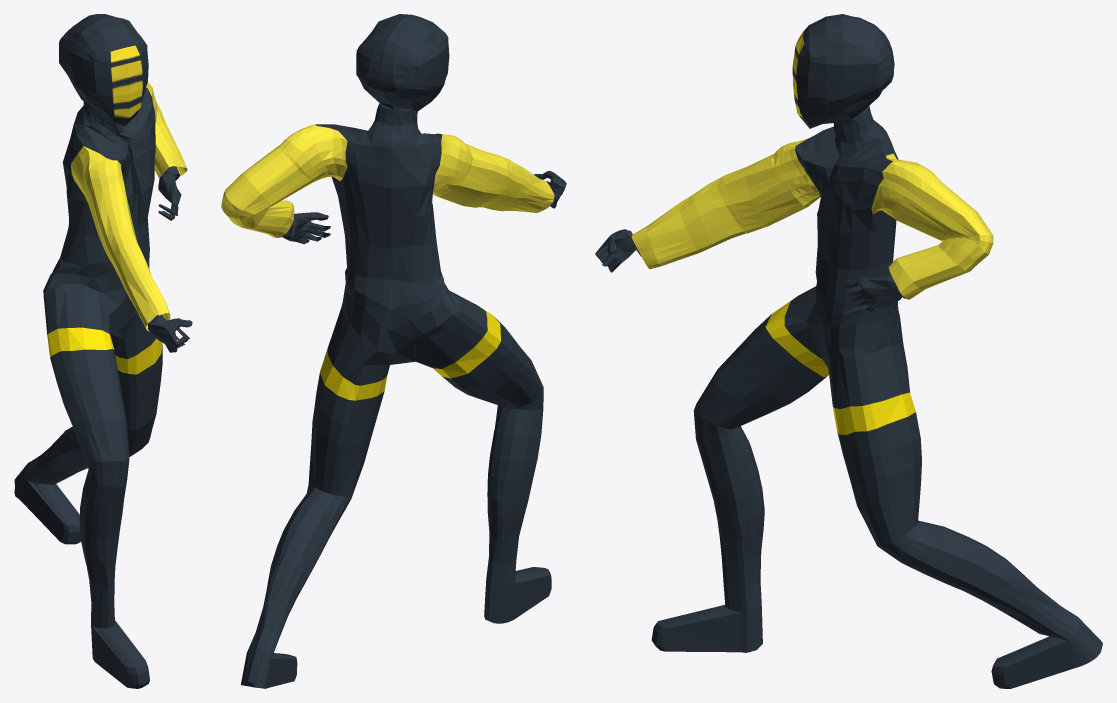
The model's file is Sentry_WL_000003.obj.
3 views of the same model, side by side, from view 1: azimuth 30°, elevation 25°; view 2: azimuth 150°, elevation 25°; view 3: azimuth 270°, elevation 25° (orthographic). The views are drawn at different scales.
Parts seen in each view (by area): view 1: Cube; view 2: Cube; view 3: Cube.
Boxes of the visible parts, x1=… form: Cube: x1=14, y1=14, x2=192, y2=688; Cube: x1=221, y1=14, x2=566, y2=688; Cube: x1=595, y1=14, x2=1102, y2=688.
Size of the model in its own units: 1.19 by 3.6 by 2.53.
